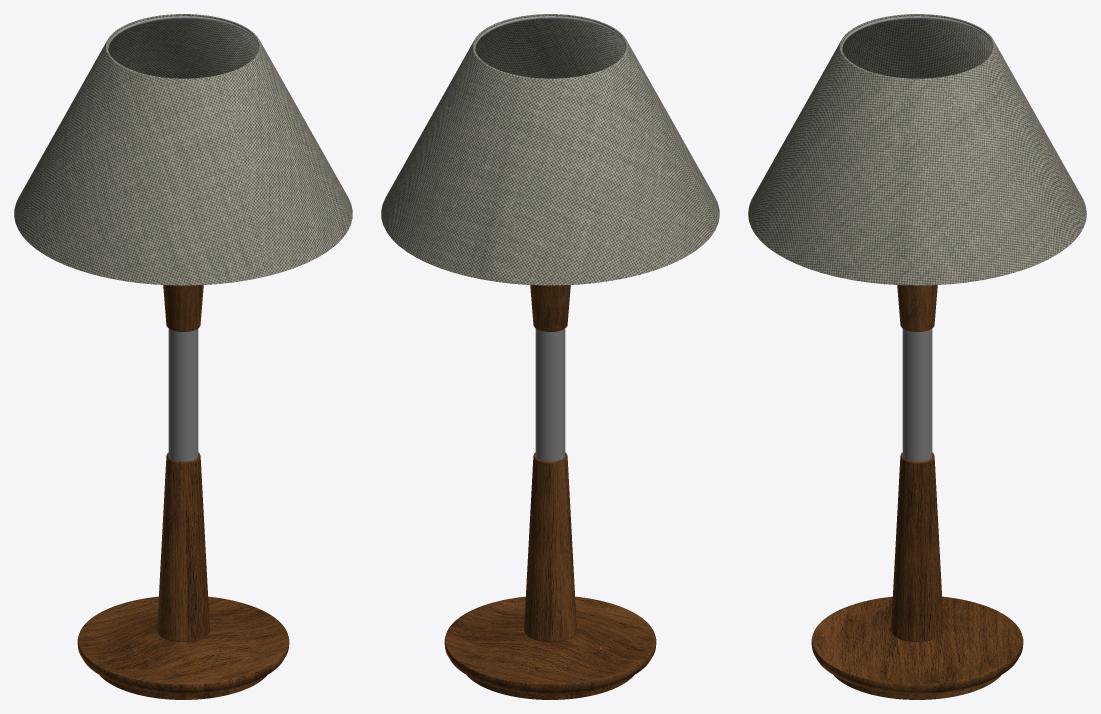
Rendered from lamp.fbx.
3 views of the same model, side by side, from view 1: azimuth 30°, elevation 25°; view 2: azimuth 150°, elevation 25°; view 3: azimuth 270°, elevation 25° (orthographic).
Parts seen in each view (by area): view 1: Top.006; view 2: Top.006; view 3: Top.006.
Part boxes in pixels (x1,y1,x2,y2): Top.006: [14, 14, 352, 699]; Top.006: [381, 14, 719, 699]; Top.006: [748, 14, 1086, 699].
Bounding box in the file's own units: 19.16 × 38.43 × 19.16.
